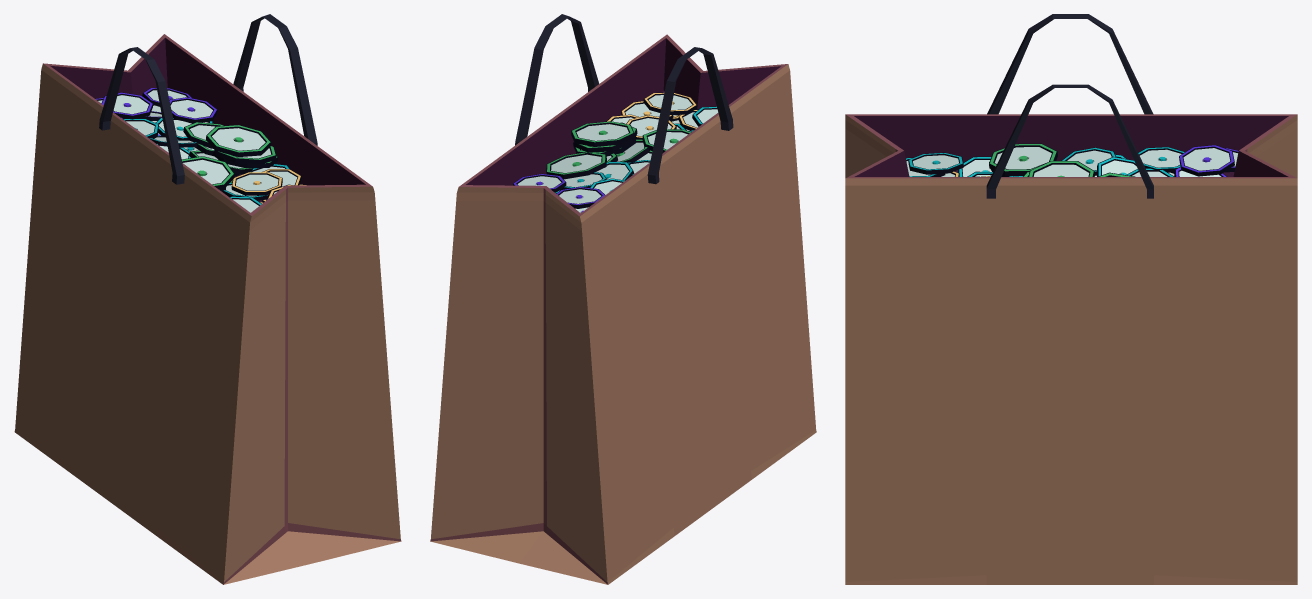
Rendered from 500kBag.fbx.
The picture shows the model from 3 angles, left to right: view 1: azimuth 30°, elevation 25°; view 2: azimuth 150°, elevation 25°; view 3: azimuth 270°, elevation 25°; orthographic projection. The views are drawn at different scales.
Parts seen in each view (by area): view 1: Cylinder.189; view 2: Cylinder.189; view 3: Cylinder.189.
Part boxes in pixels (left/top/right/bottom): Cylinder.189: left=14, top=14, right=401, bottom=584; Cylinder.189: left=430, top=14, right=816, bottom=584; Cylinder.189: left=845, top=14, right=1297, bottom=584.
Bounding box in the file's own units: 15.67 × 37.81 × 31.8.
